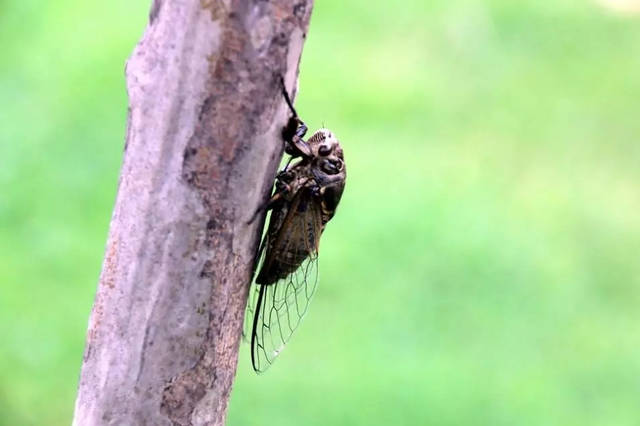chan: (244, 109, 348, 362)
